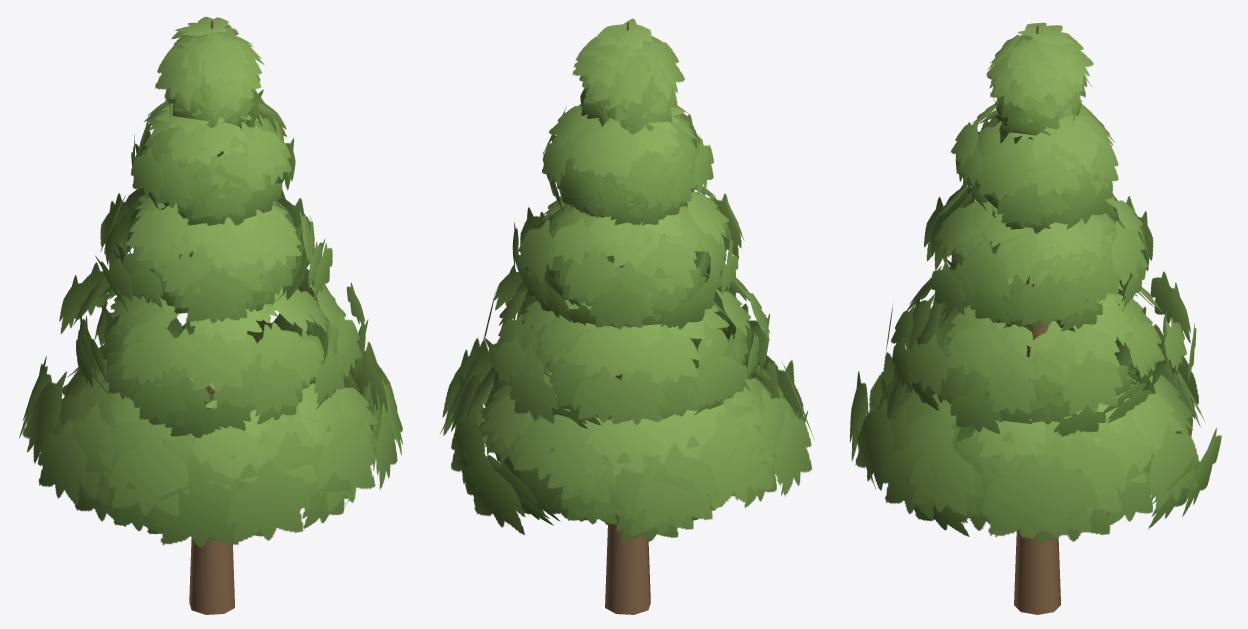
The model's file is pine-41.glb.
The picture shows the model from 3 angles, left to right: view 1: azimuth 30°, elevation 25°; view 2: azimuth 150°, elevation 25°; view 3: azimuth 270°, elevation 25°; orthographic projection.
Visible parts, largest first — view 1: tiered pine; view 2: tiered pine; view 3: tiered pine.
Part boxes in pixels (box(x1,y1,x2,y2)): tiered pine: box(19, 16, 402, 614); tiered pine: box(440, 18, 814, 614); tiered pine: box(850, 22, 1221, 614).
Size of the model in its own units: 3.93 by 6.5 by 3.92.
1 material, 1 textured.
